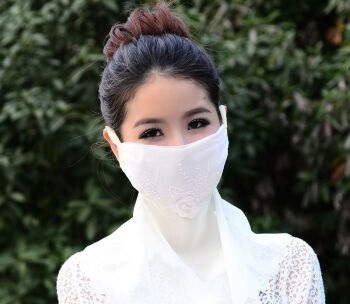face_mask: (119, 80, 225, 199)
